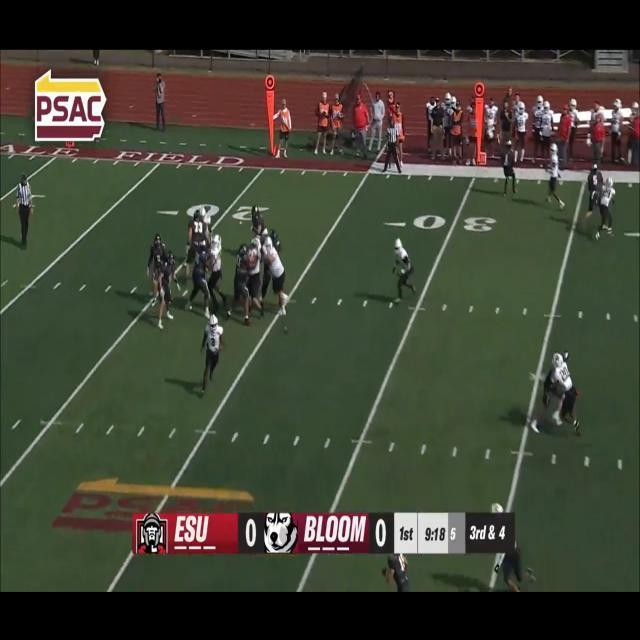football: (281, 324, 292, 336)
